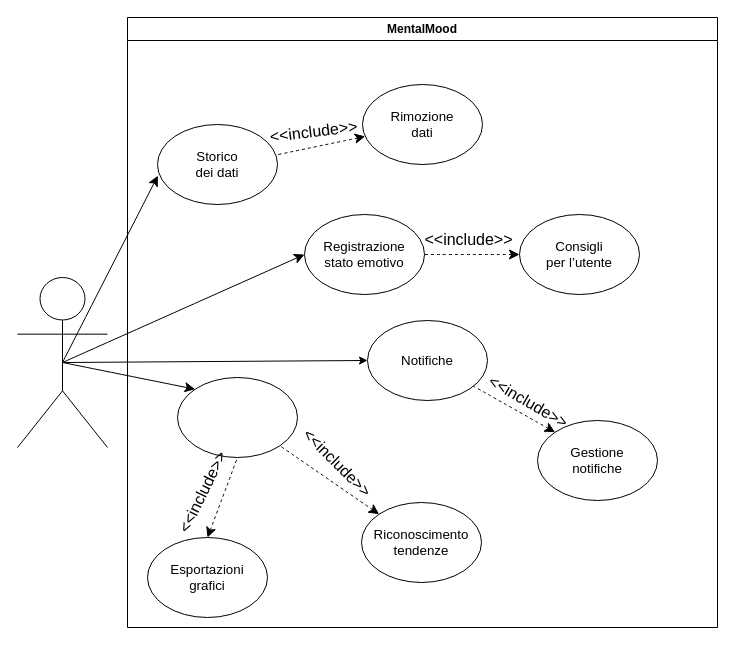
Some shapes in this 735 by 645 pixel diagram are drawn without their labels. Here are the shapes that lost their labels. From the top down, the centre of each, then its label:
At [62,362]: "User".
At [237,417]: "Statistiche".
